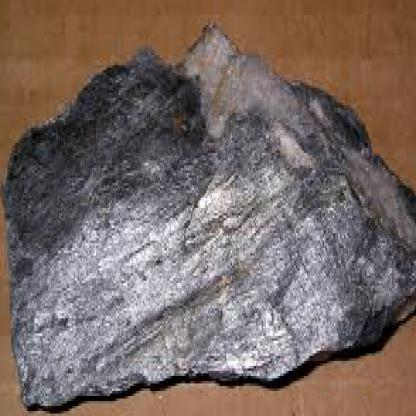Metamorphic_Quartize: (1, 12, 416, 414)
